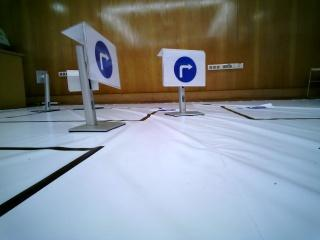right: (82, 24, 119, 84), (160, 47, 208, 88)
